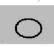no answer: (9, 15, 48, 42)
